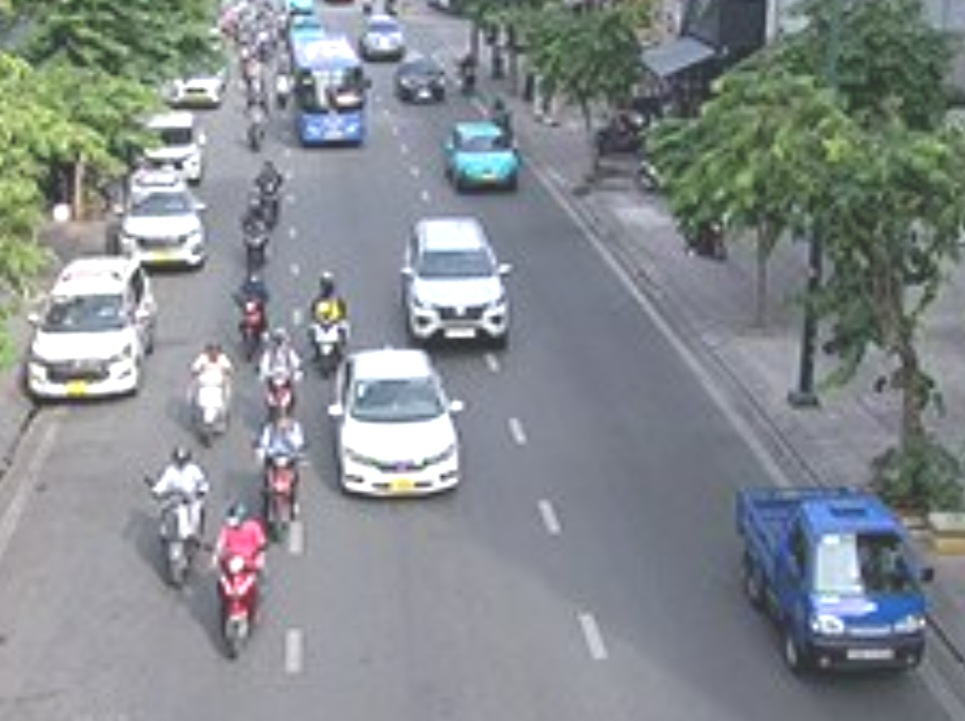car: (725, 483, 935, 679), (331, 346, 462, 498), (33, 258, 156, 398), (402, 207, 513, 351), (119, 174, 211, 272), (445, 122, 525, 193), (140, 109, 212, 180), (394, 58, 450, 107)
